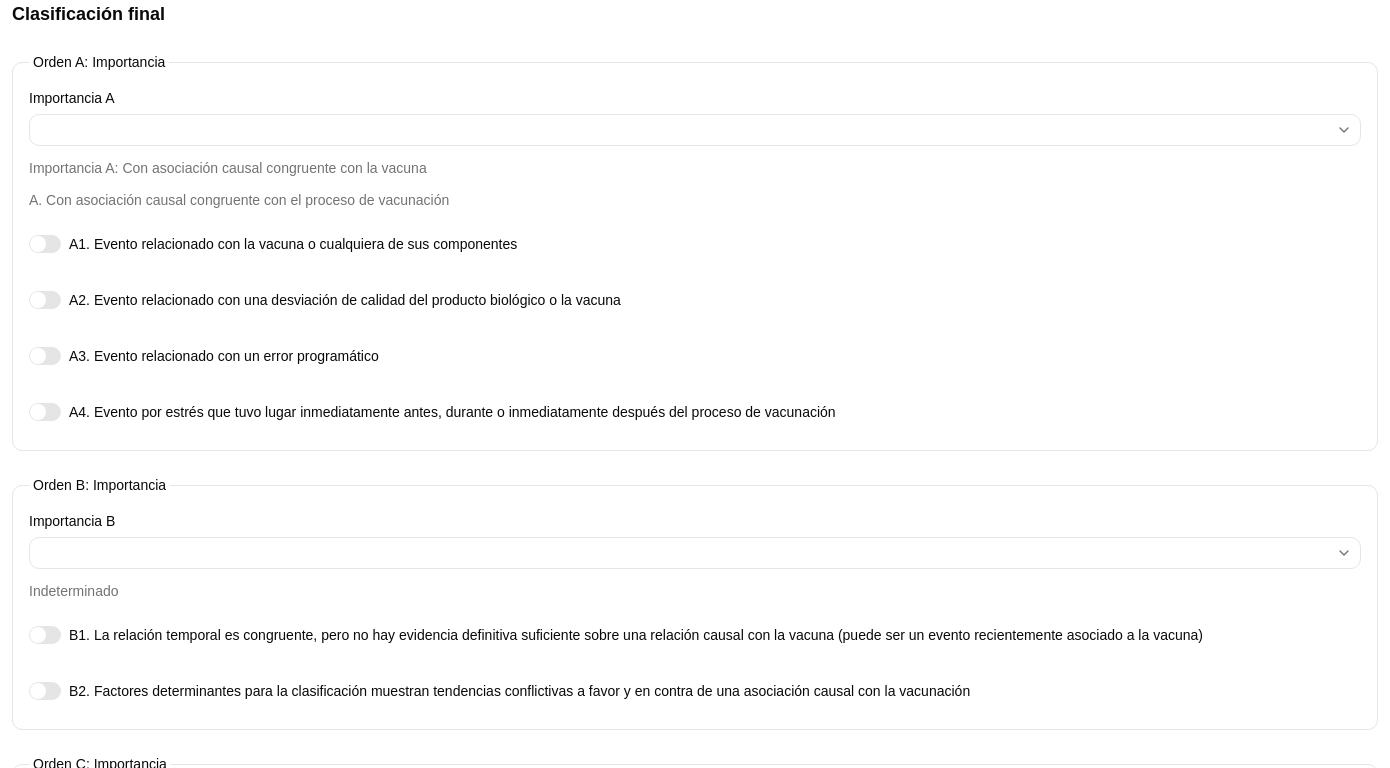
Test: FinalClassificationStep — guardar (SPEC FE14a §4 paso 8) › IMPORTANCE_DUPLICATED queda anclado en la importancia con valor
Click the dropdown named "Importancia A".
click(1344, 130)  # box left=29, top=114, right=1361, bottom=146
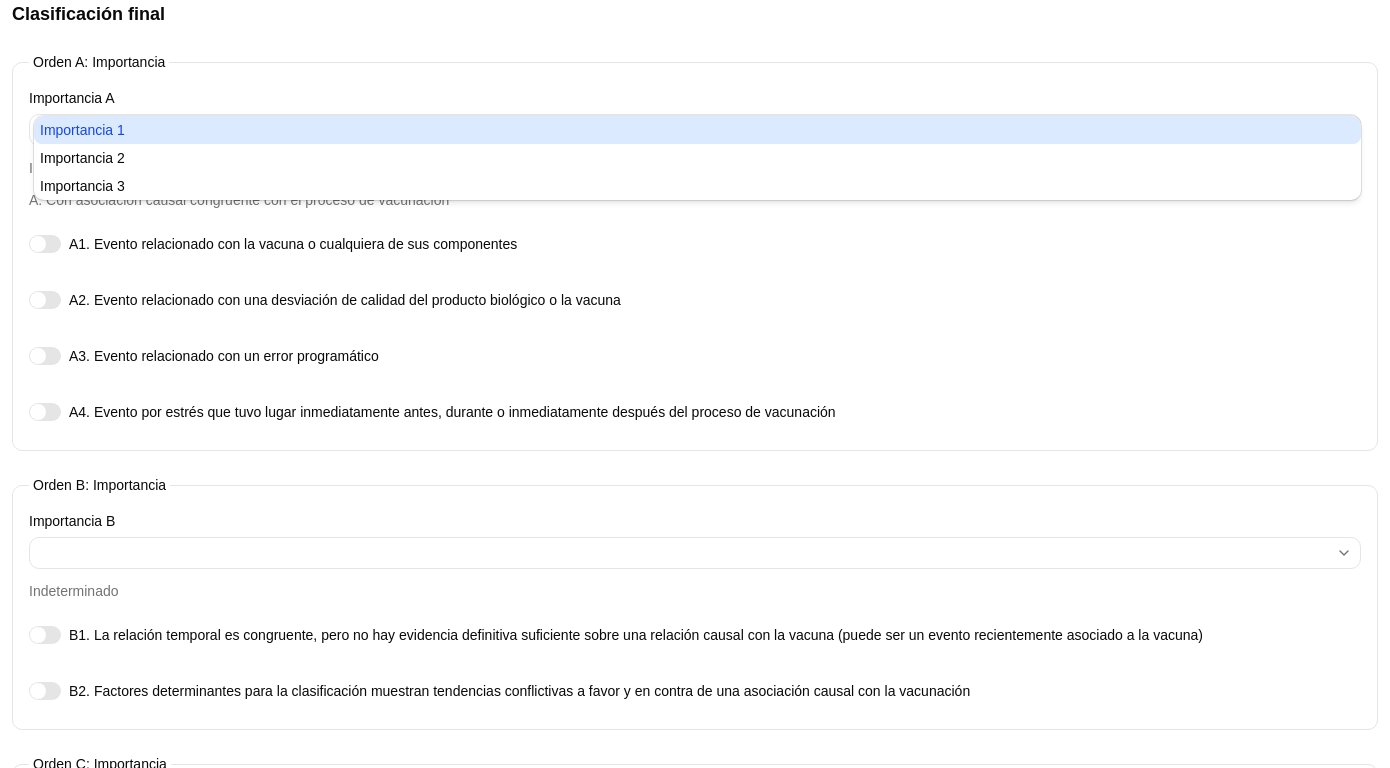
Click the option "Importancia 1".
click(82, 130)  # box left=34, top=116, right=1361, bottom=144
(page scrolled)
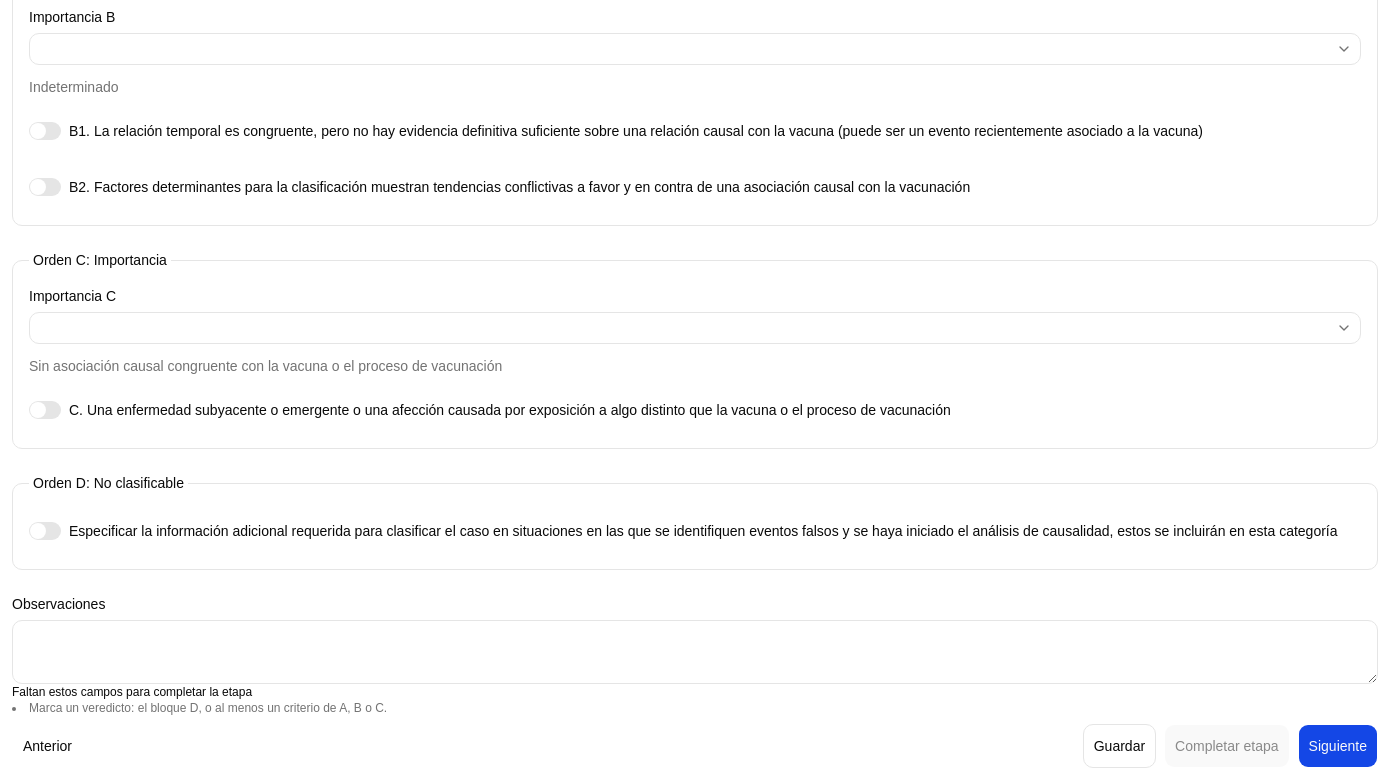
Click the button "Guardar".
click(1119, 746)  # box left=1083, top=724, right=1156, bottom=767
(page scrolled)
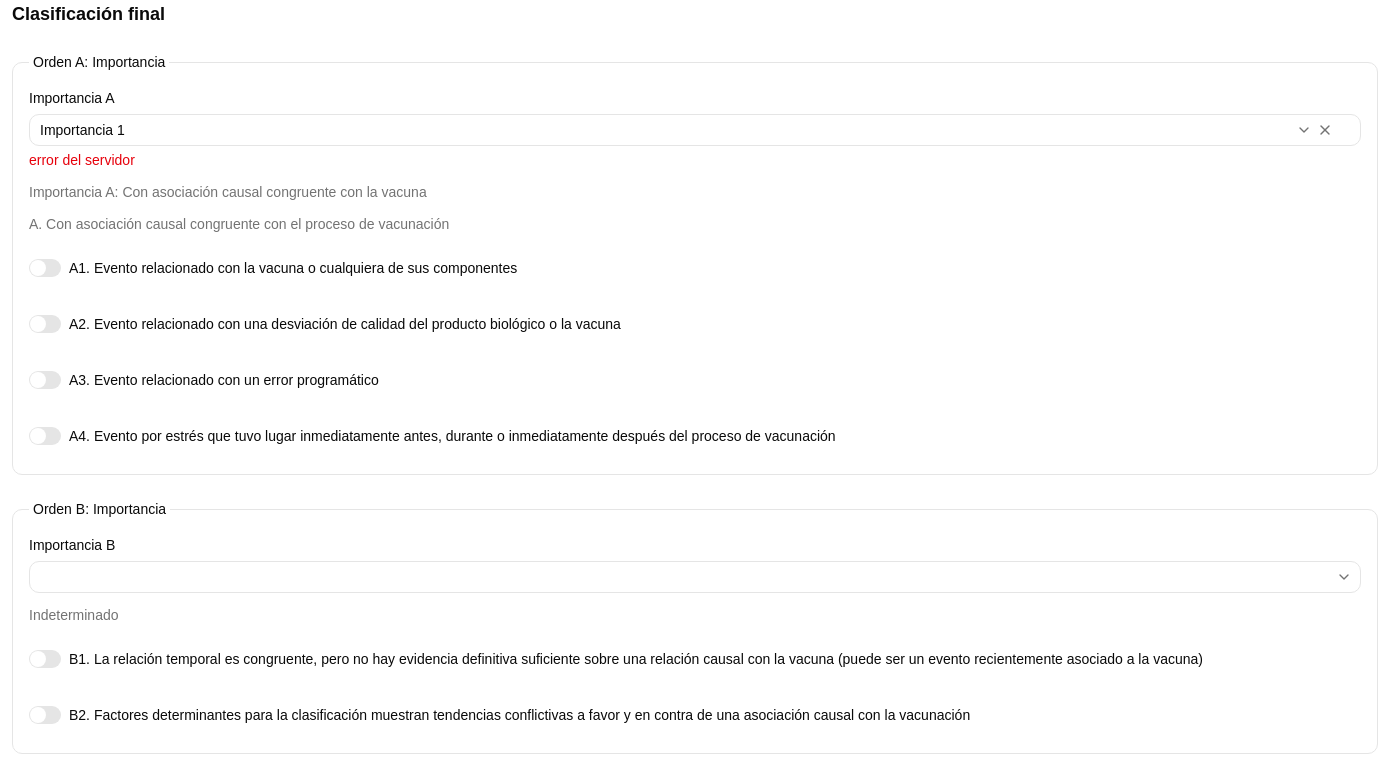
Result: the message "error del servidor" is shown at left=29, top=152, right=135, bottom=168
